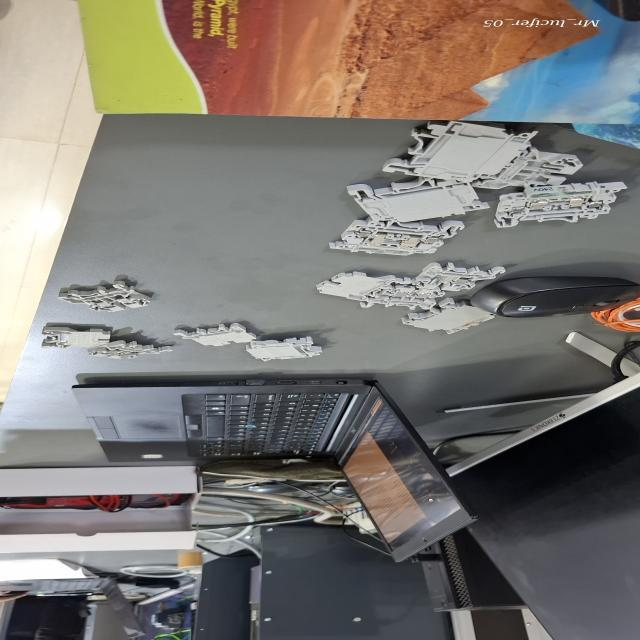Inverted: (30, 324, 140, 354), (314, 270, 411, 303), (161, 324, 263, 348)
Pass: (48, 273, 166, 318), (84, 339, 170, 361)
Reject: (406, 260, 514, 292)
